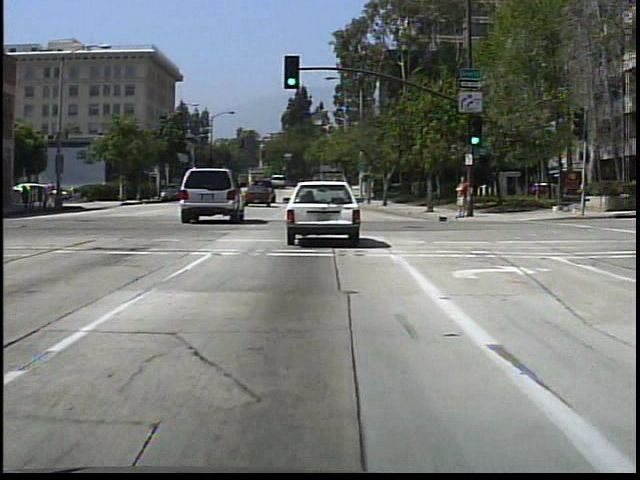person: (454, 171, 476, 220), (49, 180, 60, 213), (56, 183, 67, 210)
